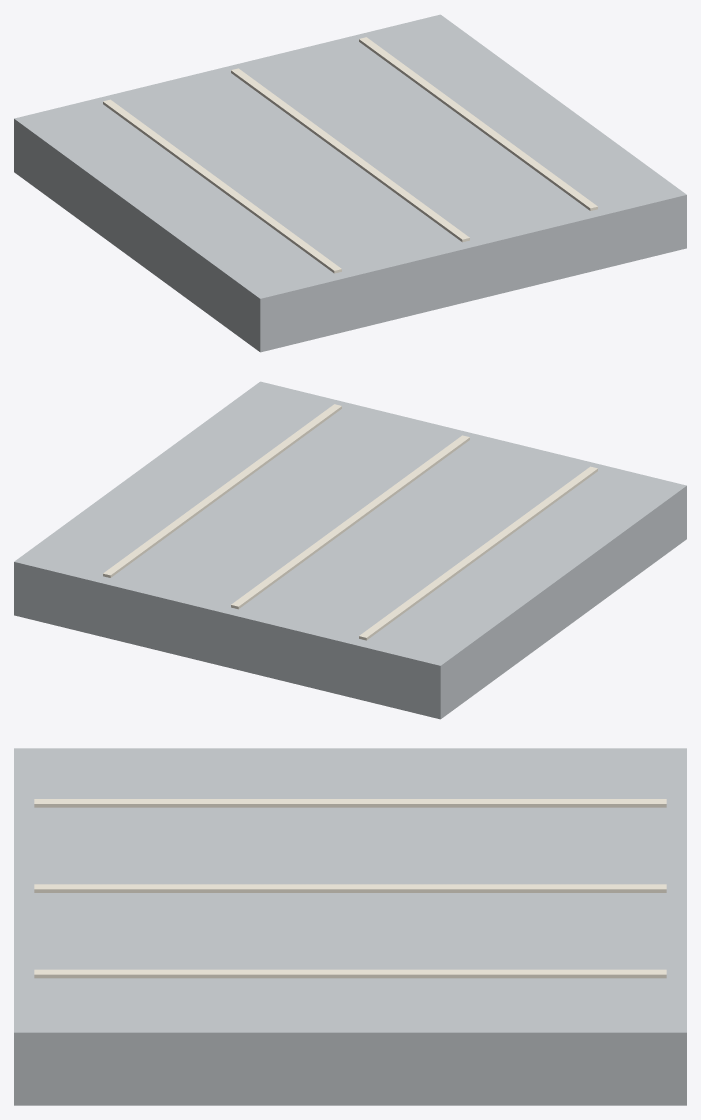
The model's file is floor-stone.glb.
The picture shows the model from 3 angles, top to bottom: view 1: azimuth 30°, elevation 25°; view 2: azimuth 150°, elevation 25°; view 3: azimuth 270°, elevation 25°; orthographic projection. The views are drawn at different scales.
Visible parts, largest first — view 1: base, seam (×3); view 2: base, seam (×3); view 3: base, seam (×3).
Part boxes in pixels (x1,y1,x2,y2): base: (14,14,686,352); seam (×3): (103,37,597,273); base: (14,381,686,719); seam (×3): (103,404,597,640); base: (14,748,686,1105); seam (×3): (34,799,666,978).
Size of the model in its own units: 1 by 0.126 by 1.
